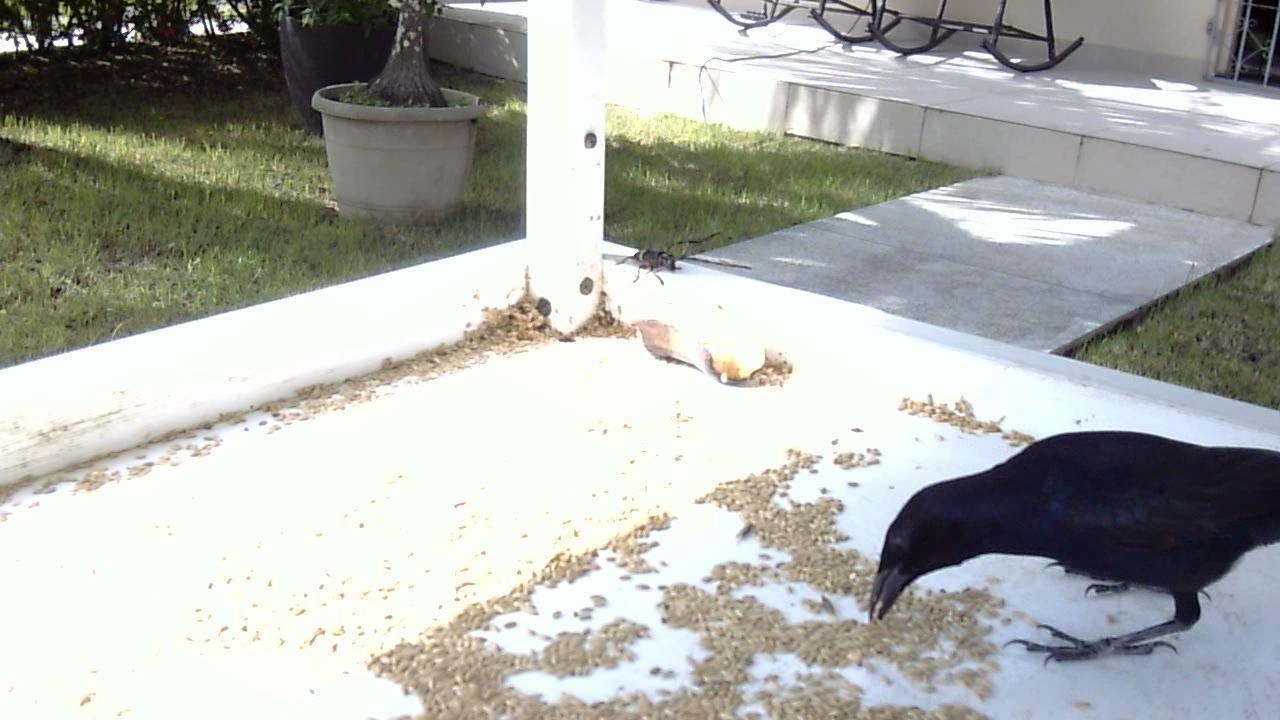chupim: (860, 408, 1280, 680)
